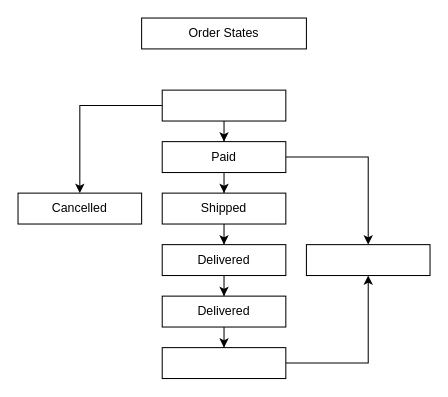
This 448x397 diagram has some shape labels left out. The shapes that lost their labels are listed below. From the top down, each one's centre as x and y in pixels, then its label:
At pixel 223 105: "Created".
At pixel 367 260: "Refunded".
At pixel 223 363: "Returned".
